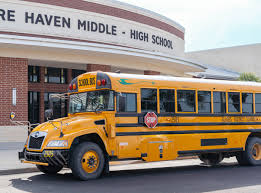bus: (11, 68, 261, 182)
